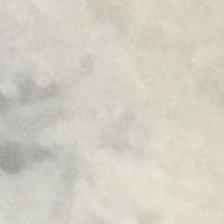Non_Crack: (18, 28, 194, 194)
